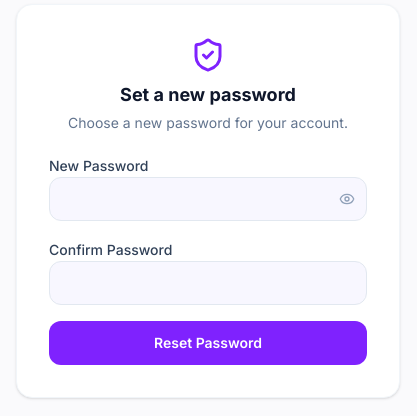
Reset Password — Successful submission › shows the success screen after a valid reset
Type "newpassword1" into the password field labelled "New Password" at (208, 199), box [49,177,367,221]
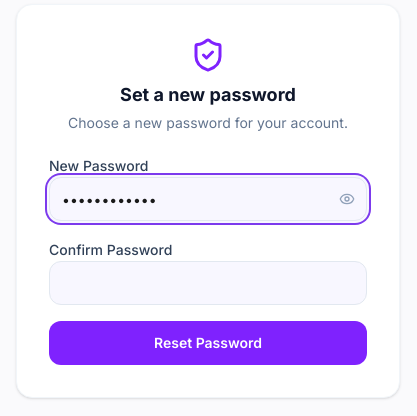
Type "newpassword1" into the password field labelled "Confirm Password" at (208, 283), box [49,261,367,305]
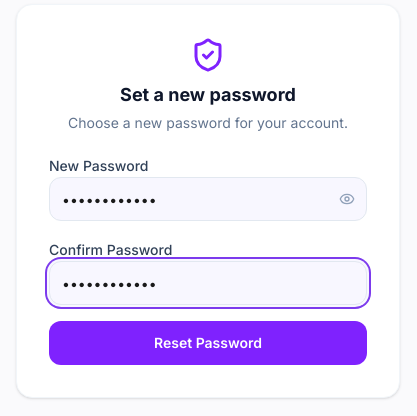
Click the button "Reset Password" at (208, 343), box [49,321,367,365]
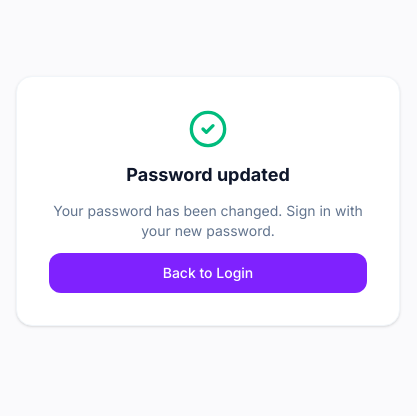
Check: the heading "Password updated" is shown, box [126,164,290,185]
